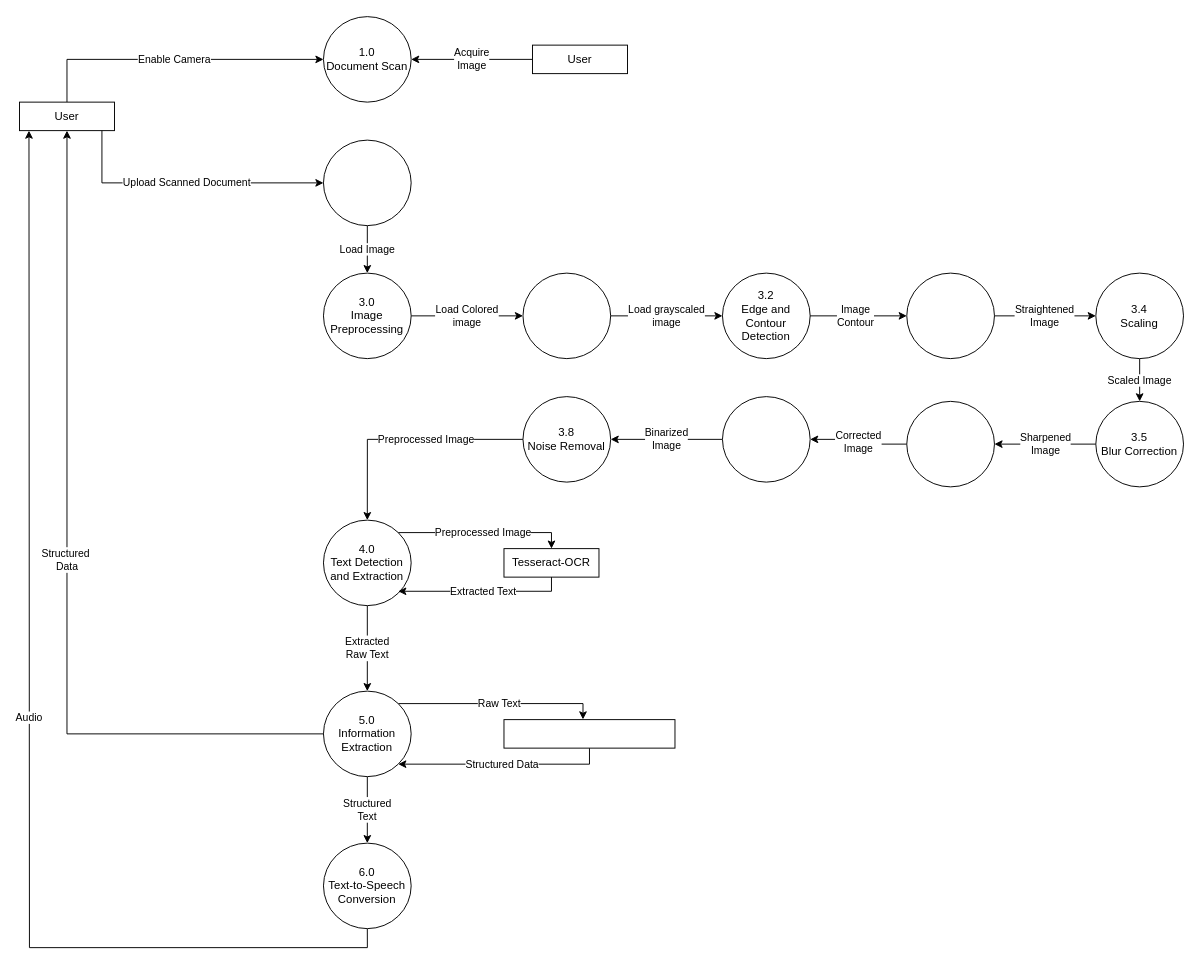
This 1201x972 diagram has some shape labels left out. Each missing label, with the centre of its shape:
"2.0 Main Program" goes at point 367,182.
"3.1 Grayscaling" goes at point 566,315.
"3.3 Skewness Correction" goes at point 950,315.
"3.6 Brightness Correction" goes at point 950,443.
"3.7 Binarization" goes at point 766,439.
"Natural Language Processing" goes at point 589,733.
